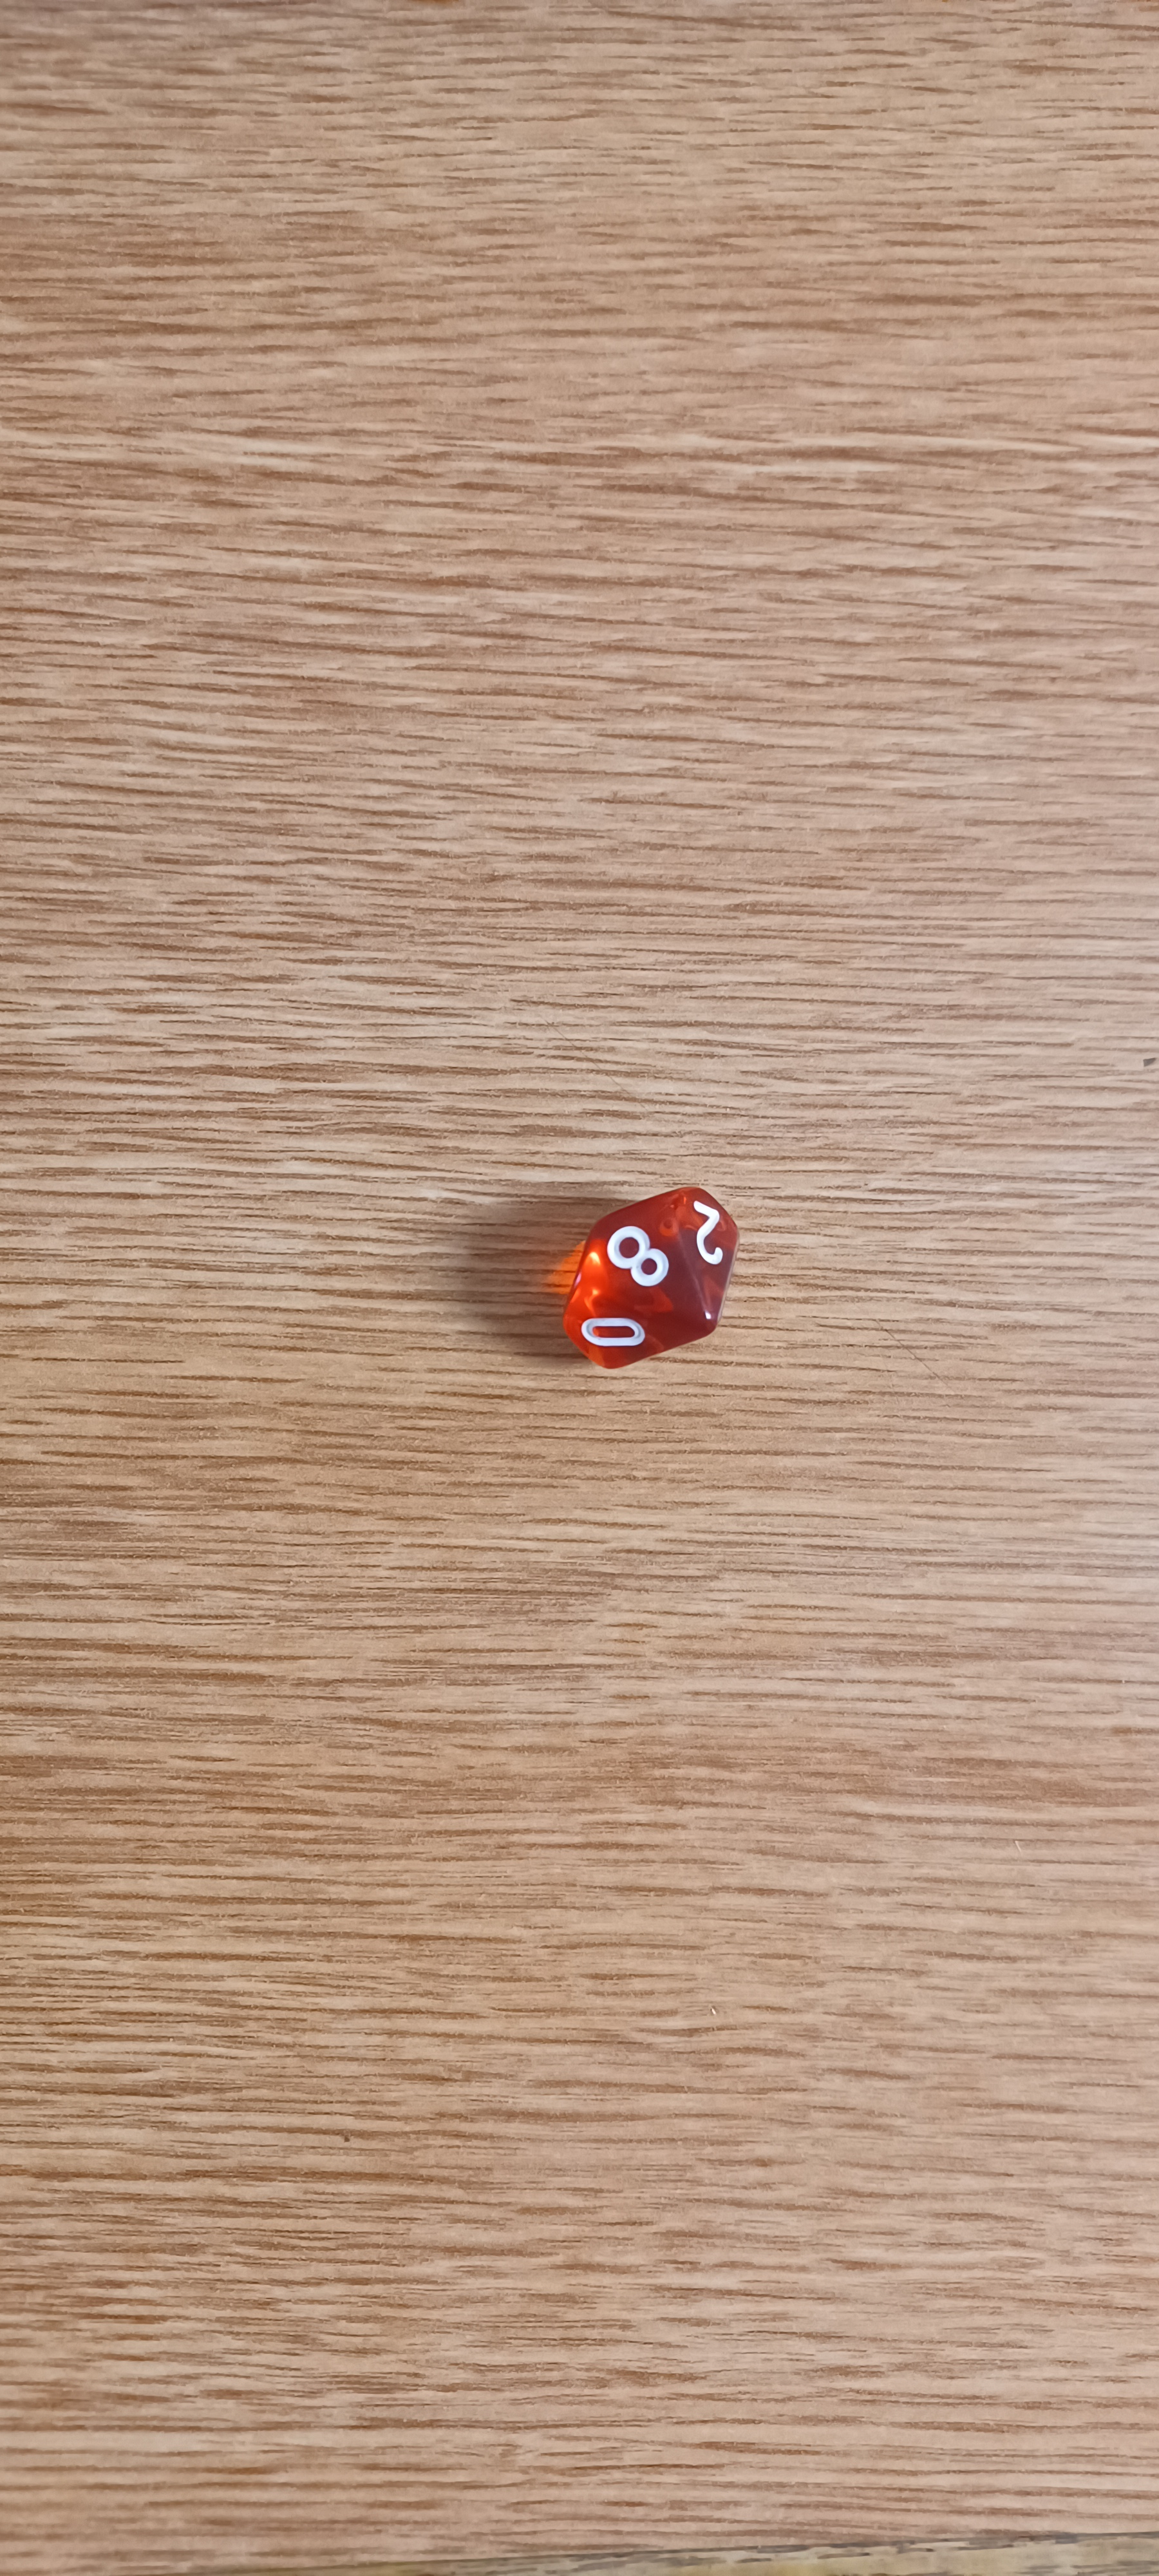eight: (479, 1150, 799, 1396)
